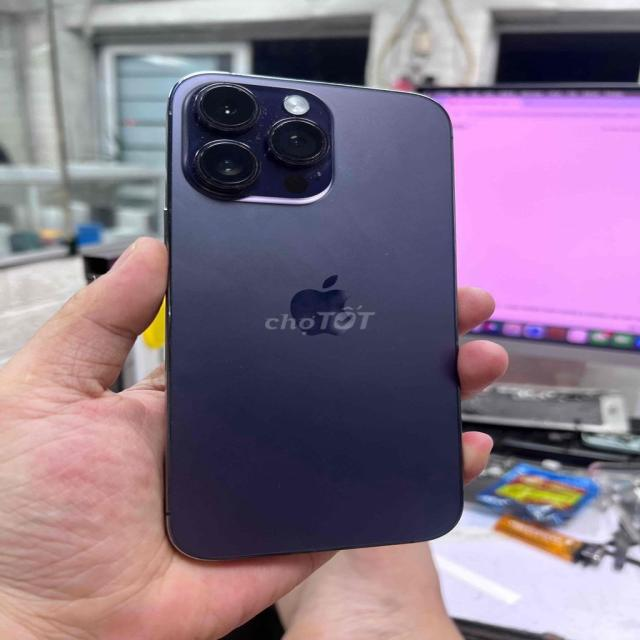gen_14: (140, 59, 478, 556)
scratch: (205, 95, 288, 169), (380, 248, 393, 262)
